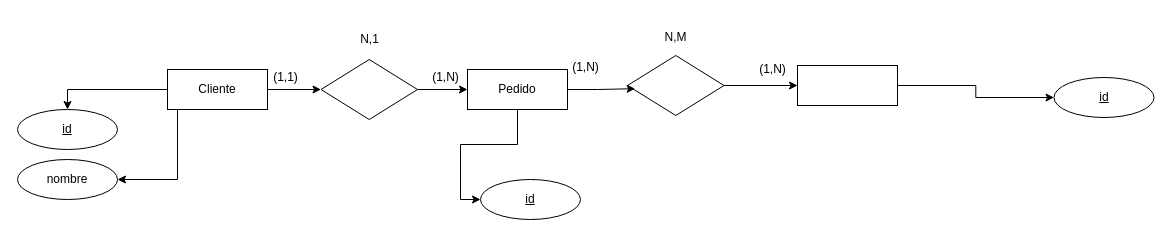
Some shapes in this 1172 by 237 pixel diagram are drawn without their labels. The centre of each missing label's shape, as x and y in pixels:
"contener" goes at point 675,85.
"Producto" goes at point 847,85.
"realizar" goes at point 369,89.
